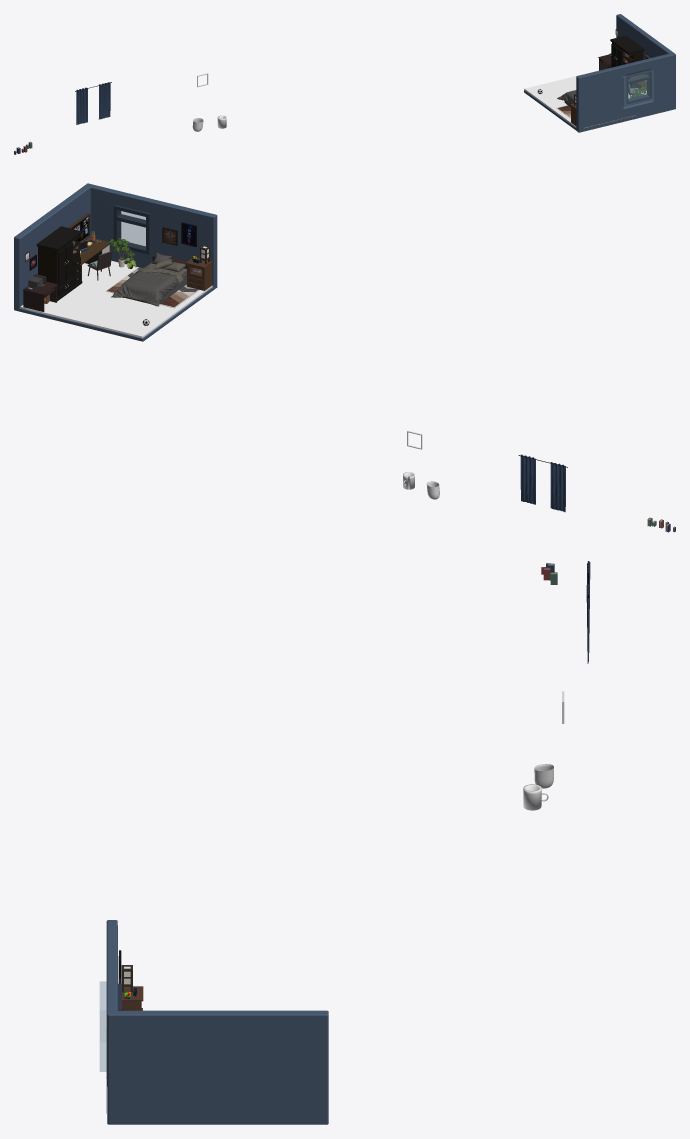
Rendered from cleaned_portfolio_model_v4.glb.
3 views of the same model, one above another, from view 1: azimuth 30°, elevation 25°; view 2: azimuth 150°, elevation 25°; view 3: azimuth 270°, elevation 25° (orthographic). The views are drawn at different scales.
Visible parts, largest first — view 1: room_wall_1, room_floor, window_glass, room_wall_2, Curtains, wardrobe_body, window_frame; view 2: room_wall_1, room_floor, room_wall_2, bedsheets_2, wardrobe_body, Curtains, window_frame, room_sub_flloor, table_body, carpet, window_glass, bedsheets_1; view 3: room_wall_2, room_wall_1.
Part boxes in pixels (x1=…): room_wall_1: x1=576, y1=53, x2=675, y2=132; room_floor: x1=524, y1=70, x2=646, y2=127; window_glass: x1=622, y1=70, x2=653, y2=108; room_wall_2: x1=616, y1=14, x2=675, y2=108; Curtains: x1=75, y1=82, x2=111, y2=124; wardrobe_body: x1=610, y1=35, x2=644, y2=86; window_frame: x1=626, y1=68, x2=652, y2=104; room_wall_1: x1=88, y1=183, x2=217, y2=287; room_floor: x1=20, y1=260, x2=212, y2=338; room_wall_2: x1=14, y1=183, x2=89, y2=309; bedsheets_2: x1=111, y1=252, x2=185, y2=306; wardrobe_body: x1=36, y1=226, x2=82, y2=300; Curtains: x1=518, y1=454, x2=567, y2=512; window_frame: x1=113, y1=205, x2=150, y2=254; room_sub_flloor: x1=14, y1=217, x2=215, y2=341; table_body: x1=23, y1=281, x2=58, y2=311; carpet: x1=105, y1=267, x2=199, y2=308; window_glass: x1=121, y1=211, x2=145, y2=246; bedsheets_1: x1=114, y1=257, x2=186, y2=304; room_wall_2: x1=107, y1=1010, x2=328, y2=1124; room_wall_1: x1=106, y1=920, x2=118, y2=1113.
Size of the model in its own units: 71.47 by 8.28 by 27.53.
Materials: 113 (24 with a texture image).
